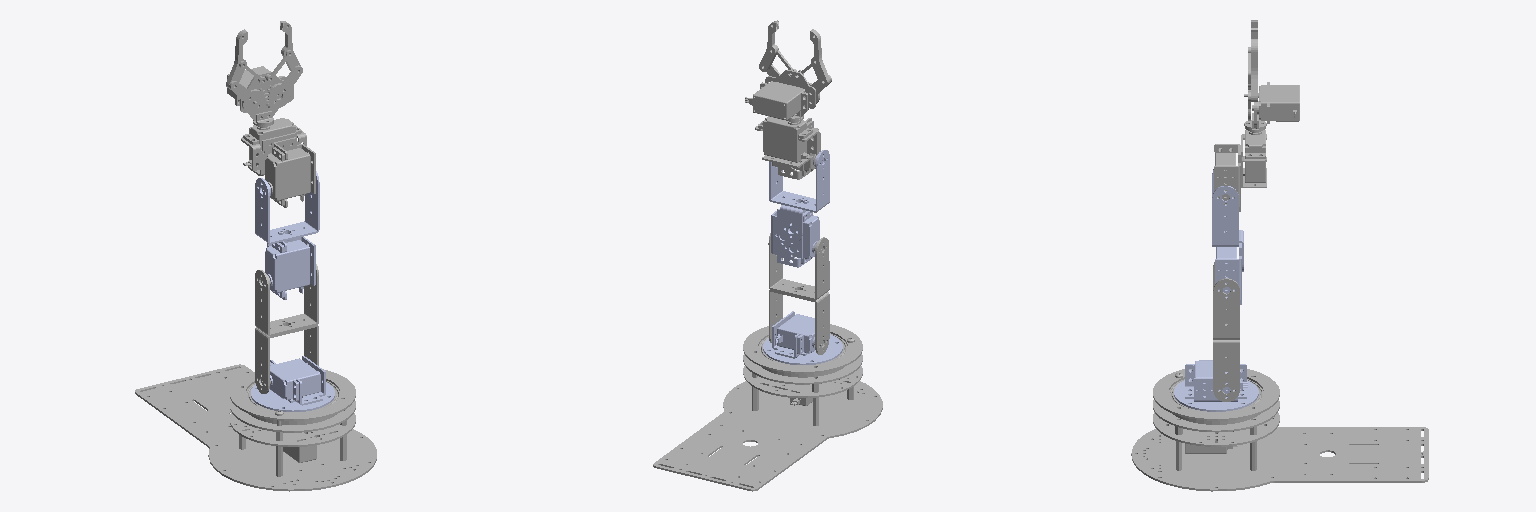
URDF robot description (auto_arm):
<?xml version="1.0" encoding="utf-8"?>
<!-- This URDF was automatically created by SolidWorks to URDF Exporter! Originally created by [author] ([email redacted]) 
     Commit Version: 1.5.1-0-g916b5db  Build Version: 1.5.7152.31018
     For more information, please see http://wiki.ros.org/sw_urdf_exporter -->
<robot
  name="auto_arm">
    <!--  A base_footprint link and joint for KDL solver  -->
  <link name="base_footprint" />
  <joint name="base_footprint_joint" type="fixed">
      <origin
      xyz="0 0 0"
      rpy="1.57 0 0" />
     <parent link="base_footprint"/>
     <child link="base_link"/>
   </joint>
  <link
    name="base_link">
    <inertial>
      <origin
        xyz="0.029116 0.026153 0.17253"
        rpy="0 0 0" />
      <mass
        value="1.1172" />
      <inertia
        ixx="0.0037637"
        ixy="-2.3712E-15"
        ixz="-3.8793E-12"
        iyy="0.0050982"
        iyz="2.0357E-09"
        izz="0.001353" />
    </inertial>
    <visual>
      <origin
        xyz="0 0 0"
        rpy="0 0 0" />
      <geometry>
        <mesh
          filename="package://auto_arm/meshes/base_link.STL" />
      </geometry>
      <material
        name="">
        <color
          rgba="0.75294 0.75294 0.75294 1" />
      </material>
    </visual>
    <collision>
      <origin
        xyz="0 0 0"
        rpy="0 0 0" />
      <geometry>
        <mesh
          filename="package://auto_arm/meshes/base_link.STL" />
      </geometry>
    </collision>
  </link>
  <link
    name="link1">
    <inertial>
      <origin
        xyz="0.0016658 0.012438 9.9069E-05"
        rpy="0 0 0" />
      <mass
        value="0.23074" />
      <inertia
        ixx="8.1763E-05"
        ixy="-1.1886E-06"
        ixz="-2.0753E-09"
        iyy="0.00015072"
        iyz="6.8816E-16"
        izz="7.6359E-05" />
    </inertial>
    <visual>
      <origin
        xyz="0 0 0"
        rpy="0 0 0" />
      <geometry>
        <mesh
          filename="package://auto_arm/meshes/link1.STL" />
      </geometry>
      <material
        name="">
        <color
          rgba="0.79216 0.81961 0.93333 1" />
      </material>
    </visual>
    <collision>
      <origin
        xyz="0 0 0"
        rpy="0 0 0" />
      <geometry>
        <mesh
          filename="package://auto_arm/meshes/link1.STL" />
      </geometry>
    </collision>
  </link>
  <joint
    name="joint1"
    type="revolute">
    <origin
      xyz="0.02925 0.052 0.2"
      rpy="0 0 0" />
    <parent
      link="base_link" />
    <child
      link="link1" />
    <axis
      xyz="0 -1 0" />
    <limit
      lower="-1.57"
      upper="1.57"
      effort="1000"
      velocity="1000" />
  </joint>
  <link
    name="link2">
    <inertial>
      <origin
        xyz="-0.025203 -0.052 3.9274E-14"
        rpy="0 0 0" />
      <mass
        value="0.13068" />
      <inertia
        ixx="5.6028E-05"
        ixy="-1.5416E-19"
        ixz="9.2783E-17"
        iyy="8.0474E-05"
        iyz="3.2776E-20"
        izz="0.00012283" />
    </inertial>
    <visual>
      <origin
        xyz="0 0 0"
        rpy="0 0 0" />
      <geometry>
        <mesh
          filename="package://auto_arm/meshes/link2.STL" />
      </geometry>
      <material
        name="">
        <color
          rgba="0.75294 0.75294 0.75294 1" />
      </material>
    </visual>
    <collision>
      <origin
        xyz="0 0 0"
        rpy="0 0 0" />
      <geometry>
        <mesh
          filename="package://auto_arm/meshes/link2.STL" />
      </geometry>
    </collision>
  </link>
  <joint
    name="joint2"
    type="revolute">
    <origin
      xyz="-0.027 0.028 -0.009655"
      rpy="0 0 3.1416" />
    <parent
      link="link1" />
    <child
      link="link2" />
    <axis
      xyz="-1 0 0" />
    <limit
      lower="-1.57"
      upper="1.57"
      effort="1000"
      velocity="1000" />
  </joint>
  <link
    name="link3">
    <inertial>
      <origin
        xyz="-0.0285121340027484 -0.0358856866082483 -0.002867593806336"
        rpy="0 0 0" />
      <mass
        value="0.162773107195286" />
      <inertia
        ixx="5.22090681473768E-05"
        ixy="-2.0356577639145E-09"
        ixz="1.18860474363804E-06"
        iyy="5.76190599595044E-05"
        iyz="1.00741644087675E-06"
        izz="9.31154626486254E-05" />
    </inertial>
    <visual>
      <origin
        xyz="0 0 0"
        rpy="0 0 0" />
      <geometry>
        <mesh
          filename="package://auto_arm/meshes/link3.STL" />
      </geometry>
      <material
        name="">
        <color
          rgba="0.792156862745098 0.819607843137255 0.933333333333333 1" />
      </material>
    </visual>
    <collision>
      <origin
        xyz="0 0 0"
        rpy="0 0 0" />
      <geometry>
        <mesh
          filename="package://auto_arm/meshes/link3.STL" />
      </geometry>
    </collision>
  </link>
  <joint
    name="joint3"
    type="revolute">
    <origin
      xyz="0 -0.104 0"
      rpy="0 0 0" />
    <parent
      link="link2" />
    <child
      link="link3" />
    <axis
      xyz="-1 0 0" />
    <limit
      lower="-1.57"
      upper="1.57"
      effort="1000"
      velocity="1000" />
  </joint>
  <link
    name="link4">
    <inertial>
      <origin
        xyz="-0.0289627044010144 -0.01763920786162 -0.0140034022549493"
        rpy="0 0 0" />
      <mass
        value="0.154402122820399" />
      <inertia
        ixx="3.54886415336179E-05"
        ixy="-2.83295093415387E-15"
        ixz="1.18860474672051E-06"
        iyy="3.54886415891226E-05"
        iyz="1.18860474194435E-06"
        izz="5.63939104721804E-05" />
    </inertial>
    <visual>
      <origin
        xyz="0 0 0"
        rpy="0 0 0" />
      <geometry>
        <mesh
          filename="package://auto_arm/meshes/link4.STL" />
      </geometry>
      <material
        name="">
        <color
          rgba="0.752941176470588 0.752941176470588 0.752941176470588 1" />
      </material>
    </visual>
    <collision>
      <origin
        xyz="0 0 0"
        rpy="0 0 0" />
      <geometry>
        <mesh
          filename="package://auto_arm/meshes/link4.STL" />
      </geometry>
    </collision>
  </link>
  <joint
    name="joint4"
    type="revolute">
    <origin
      xyz="0 -0.0965 0.001"
      rpy="0 0 0" />
    <parent
      link="link3" />
    <child
      link="link4" />
    <axis
      xyz="-1 0 0" />
    <limit
      lower="-1.57"
      upper="1.57"
      effort="1000"
      velocity="1000" />
  </joint>
  <link
    name="link5">
    <inertial>
      <origin
        xyz="0.00259364943739334 0.0221828219294715 -0.0102285522348278"
        rpy="0 0 0" />
      <mass
        value="0.0689215236406201" />
      <inertia
        ixx="9.16181340971708E-06"
        ixy="3.01117807974515E-14"
        ixz="-8.96077783551701E-09"
        iyy="1.46302038778484E-05"
        iyz="2.60919354891856E-15"
        izz="1.53174982547922E-05" />
    </inertial>
    <visual>
      <origin
        xyz="0 0 0"
        rpy="0 0 0" />
      <geometry>
        <mesh
          filename="package://auto_arm/meshes/link5.STL" />
      </geometry>
      <material
        name="">
        <color
          rgba="0.752941176470588 0.752941176470588 0.752941176470588 1" />
      </material>
    </visual>
    <collision>
      <origin
        xyz="0 0 0"
        rpy="0 0 0" />
      <geometry>
        <mesh
          filename="package://auto_arm/meshes/link5.STL" />
      </geometry>
    </collision>
  </link>
  <joint
    name="joint5"
    type="revolute">
    <origin
      xyz="-0.016 -0.0575 -0.028"
      rpy="0 0 3.1416" />
    <parent
      link="link4" />
    <child
      link="link5" />
    <axis
      xyz="0 -1 0" />
    <limit
      lower="-1.57"
      upper="1.57"
      effort="1000"
      velocity="1000" />
  </joint>
  <link
    name="link2claw_l">
    <inertial>
      <origin
        xyz="-0.00428273428213723 0.00496335811522741 0.00449518479871097"
        rpy="0 0 0" />
      <mass
        value="0.0164458535032276" />
      <inertia
        ixx="1.44810435349495E-06"
        ixy="9.78731377949986E-07"
        ixz="-1.77031283388271E-09"
        iyy="1.59829104748052E-06"
        iyz="1.10106659537759E-09"
        izz="3.02172263753921E-06" />
    </inertial>
    <visual>
      <origin
        xyz="0 0 0"
        rpy="0 0 0" />
      <geometry>
        <mesh
          filename="package://auto_arm/meshes/link2claw_l.STL" />
      </geometry>
      <material
        name="">
        <color
          rgba="0.752941176470588 0.752941176470588 0.752941176470588 1" />
      </material>
    </visual>
    <collision>
      <origin
        xyz="0 0 0"
        rpy="0 0 0" />
      <geometry>
        <mesh
          filename="package://auto_arm/meshes/link2claw_l.STL" />
      </geometry>
    </collision>
  </link>
  <joint
    name="joint2claw_l"
    type="revolute">
    <origin
      xyz="-0.013751 0.025 0.00098453"
      rpy="0 0 0" />
    <parent
      link="link5" />
    <child
      link="link2claw_l" />
    <axis
      xyz="-0.001125 0 1" />
    <limit
      lower="-1.57"
      upper="1.57"
      effort="1000"
      velocity="1000" />
  </joint>
  <link
    name="claw_l">
    <inertial>
      <origin
        xyz="-0.00647594898631632 -0.0207505630009963 0.00800729046399976"
        rpy="0 0 0" />
      <mass
        value="0.0212441347941244" />
      <inertia
        ixx="5.58553151423163E-06"
        ixy="-1.10199553946668E-06"
        ixz="4.13536703419688E-10"
        iyy="4.95055526270404E-07"
        iyz="1.2397379956302E-09"
        izz="5.95312130128495E-06" />
    </inertial>
    <visual>
      <origin
        xyz="0 0 0"
        rpy="0 0 0" />
      <geometry>
        <mesh
          filename="package://auto_arm/meshes/claw_l.STL" />
      </geometry>
      <material
        name="">
        <color
          rgba="0.752941176470588 0.752941176470588 0.752941176470588 1" />
      </material>
    </visual>
    <collision>
      <origin
        xyz="0 0 0"
        rpy="0 0 0" />
      <geometry>
        <mesh
          filename="package://auto_arm/meshes/claw_l.STL" />
      </geometry>
    </collision>
  </link>
  <joint
    name="joint_claw_l"
    type="revolute">
    <origin
      xyz="-0.021101 0.021315 -0.0080237"
      rpy="0 0 3.1416" />
    <parent
      link="link2claw_l" />
    <child
      link="claw_l" />
    <axis
      xyz="0.001125 0 1" />
    <limit
      lower="-1.57"
      upper="1.57"
      effort="0"
      velocity="0" />
  </joint>
  <link
    name="link2claw_r">
    <inertial>
      <origin
        xyz="-0.00429824490989507 -0.00528839759163124 0.00850484087712225"
        rpy="0 0 0" />
      <mass
        value="0.0154350460669349" />
      <inertia
        ixx="1.41620252219815E-06"
        ixy="-9.55864862493892E-07"
        ixz="1.74380661942577E-09"
        iyy="1.57321359421582E-06"
        iyz="1.07534191045589E-09"
        izz="2.96625962377078E-06" />
    </inertial>
    <visual>
      <origin
        xyz="0 0 0"
        rpy="0 0 0" />
      <geometry>
        <mesh
          filename="package://auto_arm/meshes/link2claw_r.STL" />
      </geometry>
      <material
        name="">
        <color
          rgba="0.752941176470588 0.752941176470588 0.752941176470588 1" />
      </material>
    </visual>
    <collision>
      <origin
        xyz="0 0 0"
        rpy="0 0 0" />
      <geometry>
        <mesh
          filename="package://auto_arm/meshes/link2claw_r.STL" />
      </geometry>
    </collision>
  </link>
  <joint
    name="joint2claw_r"
    type="revolute">
    <origin
      xyz="0.014003 0.025 -0.0029842"
      rpy="0 0 3.1416" />
    <parent
      link="link5" />
    <child
      link="link2claw_r" />
    <axis
      xyz="0.001125 0 1" />
    <limit
      lower="-1.57"
      upper="1.57"
      effort="1000"
      velocity="1000" />
  </joint>
  <link
    name="claw_r">
    <inertial>
      <origin
        xyz="0.00649394887454682 -0.020750563000988 0.00799269941113095"
        rpy="0 0 0" />
      <mass
        value="0.0212441347941245" />
      <inertia
        ixx="5.58553151423161E-06"
        ixy="1.10199553946684E-06"
        ixz="4.13536703420397E-10"
        iyy="4.9505552627047E-07"
        iyz="-1.23973799563355E-09"
        izz="5.95312130128499E-06" />
    </inertial>
    <visual>
      <origin
        xyz="0 0 0"
        rpy="0 0 0" />
      <geometry>
        <mesh
          filename="package://auto_arm/meshes/claw_r.STL" />
      </geometry>
      <material
        name="">
        <color
          rgba="0.752941176470588 0.752941176470588 0.752941176470588 1" />
      </material>
    </visual>
    <collision>
      <origin
        xyz="0 0 0"
        rpy="0 0 0" />
      <geometry>
        <mesh
          filename="package://auto_arm/meshes/claw_r.STL" />
      </geometry>
    </collision>
  </link>
  <joint
    name="joint_claw_r"
    type="revolute">
    <origin
      xyz="-0.020865 -0.021315 -0.0039765"
      rpy="0 0 0" />
    <parent
      link="link2claw_r" />
    <child
      link="claw_r" />
    <axis
      xyz="0.001125 0 1" />
    <limit
      lower="-1.57"
      upper="1.57"
      effort="0"
      velocity="0" />
  </joint>
  <link
    name="link7_l">
    <inertial>
      <origin
        xyz="-0.0106539100519405 0.0105641801212029 0.004488017266361"
        rpy="0 0 0" />
      <mass
        value="0.00310035256856879" />
      <inertia
        ixx="2.08698705345823E-07"
        ixy="2.01412895220639E-07"
        ixz="-2.33170183786456E-10"
        iyy="2.11914344737064E-07"
        iyz="2.2658823023543E-10"
        izz="4.15961996600077E-07" />
    </inertial>
    <visual>
      <origin
        xyz="0 0 0"
        rpy="0 0 0" />
      <geometry>
        <mesh
          filename="package://auto_arm/meshes/link7_l.STL" />
      </geometry>
      <material
        name="">
        <color
          rgba="0.752941176470588 0.752941176470588 0.752941176470588 1" />
      </material>
    </visual>
    <collision>
      <origin
        xyz="0 0 0"
        rpy="0 0 0" />
      <geometry>
        <mesh
          filename="package://auto_arm/meshes/link7_l.STL" />
      </geometry>
    </collision>
  </link>
  <joint
    name="joint7_l"
    type="revolute">
    <origin
      xyz="-0.0040011 0.045 0.0009955"
      rpy="0 0 0" />
    <parent
      link="link5" />
    <child
      link="link7_l" />
    <axis
      xyz="-0.001125 0 1" />
    <limit
      lower="-1.57"
      upper="1.57"
      effort="1000"
      velocity="1000" />
  </joint>
  <link
    name="link7_r">
    <inertial>
      <origin
        xyz="0.010644 0.010564 0.004512"
        rpy="0 0 0" />
      <mass
        value="0.0031004" />
      <inertia
        ixx="2.087E-07"
        ixy="-2.0141E-07"
        ixz="-2.3317E-10"
        iyy="2.1191E-07"
        iyz="-2.2659E-10"
        izz="4.1596E-07" />
    </inertial>
    <visual>
      <origin
        xyz="0 0 0"
        rpy="0 0 0" />
      <geometry>
        <mesh
          filename="package://auto_arm/meshes/link7_r.STL" />
      </geometry>
      <material
        name="">
        <color
          rgba="0.75294 0.75294 0.75294 1" />
      </material>
    </visual>
    <collision>
      <origin
        xyz="0 0 0"
        rpy="0 0 0" />
      <geometry>
        <mesh
          filename="package://auto_arm/meshes/link7_r.STL" />
      </geometry>
    </collision>
  </link>
  <joint
    name="joint7_r"
    type="revolute">
    <origin
      xyz="0.0039989 0.045 0.0010045"
      rpy="0 0 0" />
    <parent
      link="link5" />
    <child
      link="link7_r" />
    <axis
      xyz="-0.001125 0 1" />
    <limit
      lower="-1.57"
      upper="1.57"
      effort="1000"
      velocity="1000" />
  </joint>
</robot>

--- What the picture shows (computed from the rendered views, not written in the file) ---
Views: 3 orthographic renders of the robot side by side, from view 1: azimuth 30°, elevation 25°; view 2: azimuth 150°, elevation 25°; view 3: azimuth 270°, elevation 25°.
Model auto_arm with 13 links and 12 joints (11 revolute, 1 fixed), rooted at base_footprint, posed all joints at 0.
Visible links, largest first — view 1: base_link, link3, link4, link2, link1, link5, link2claw_r, link2claw_l, claw_l; view 2: base_link, link3, link2, link4, link1, link5, claw_l; view 3: base_link, link2, link3, link4, link1, link5.
Link boxes in pixels (x1,y1,x2,y2): base_link: [135, 364, 376, 491]; link3: [255, 171, 319, 299]; link4: [241, 118, 315, 207]; link2: [255, 264, 318, 393]; link1: [251, 356, 334, 411]; link5: [227, 66, 293, 127]; link2claw_r: [266, 65, 302, 108]; link2claw_l: [229, 81, 266, 113]; claw_l: [226, 29, 247, 88]; base_link: [653, 324, 882, 491]; link3: [769, 150, 829, 267]; link2: [768, 233, 829, 354]; link4: [755, 116, 820, 179]; link1: [763, 311, 842, 364]; link5: [745, 70, 815, 122]; claw_l: [810, 29, 830, 86]; base_link: [1131, 369, 1428, 491]; link2: [1213, 262, 1239, 401]; link3: [1212, 169, 1243, 304]; link4: [1214, 130, 1266, 211]; link1: [1174, 360, 1258, 411]; link5: [1244, 82, 1299, 132].
Size in the robot's own frame: 0.1597 by 0.28 by 0.4371 metres.
Meshes: 12 distinct files referenced, 12 mesh visuals loaded (12 binary STL).